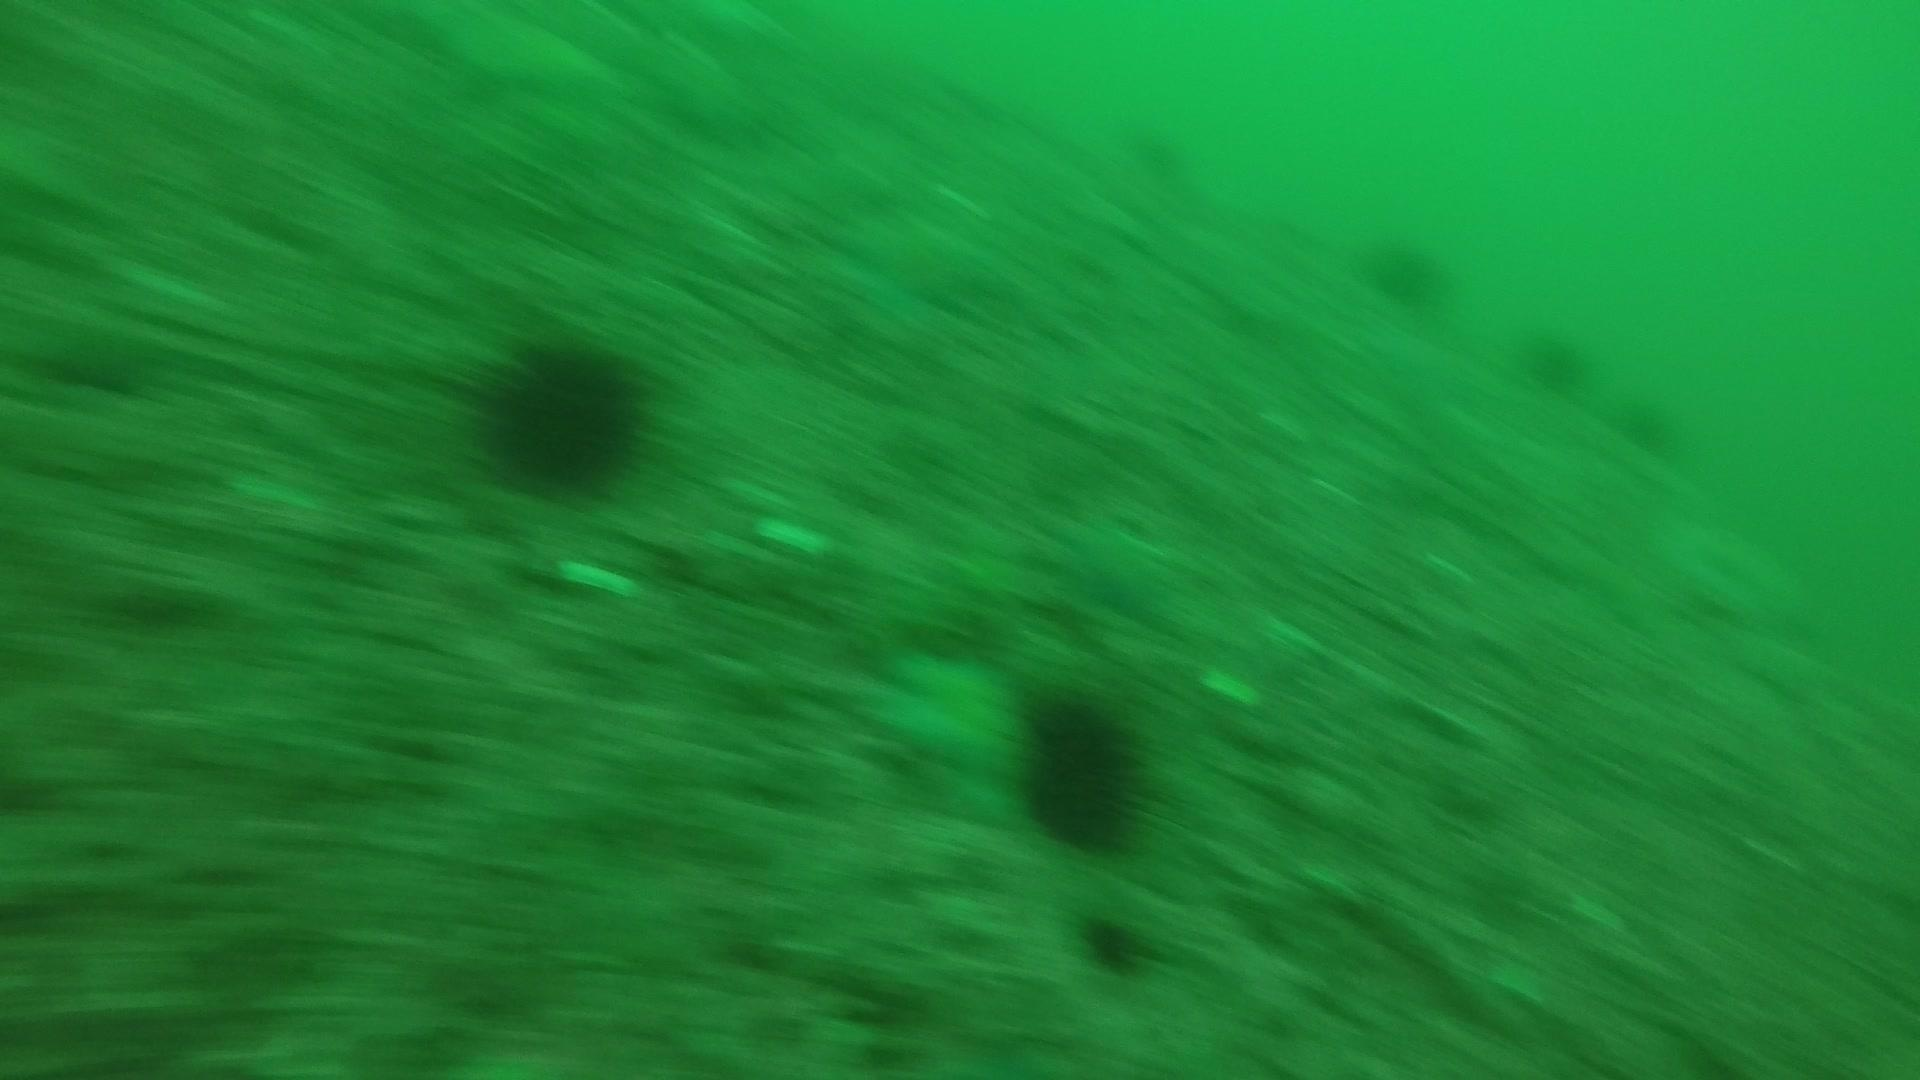echinus: (469, 331, 655, 497), (1007, 684, 1155, 856), (1360, 229, 1453, 313), (1069, 905, 1156, 980), (1513, 320, 1594, 397), (1614, 390, 1685, 460)
starfish: (866, 640, 1030, 783), (831, 200, 1006, 326)
